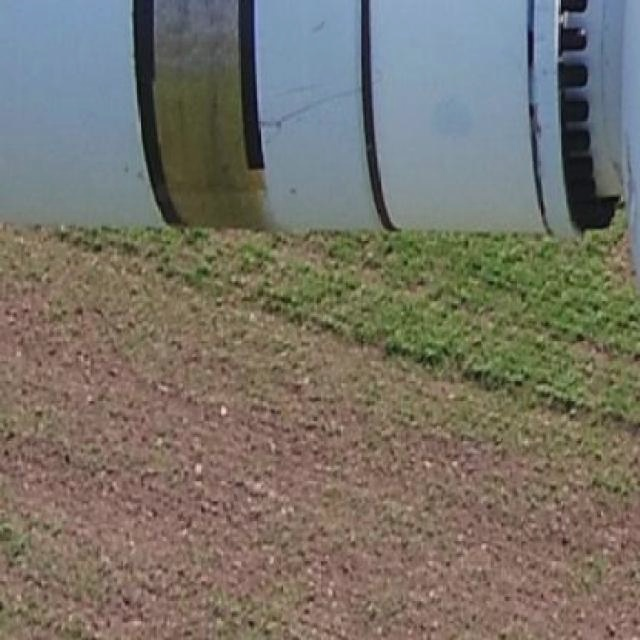Coating_defects: (312, 21, 323, 34)
Crack: (258, 69, 382, 142)
